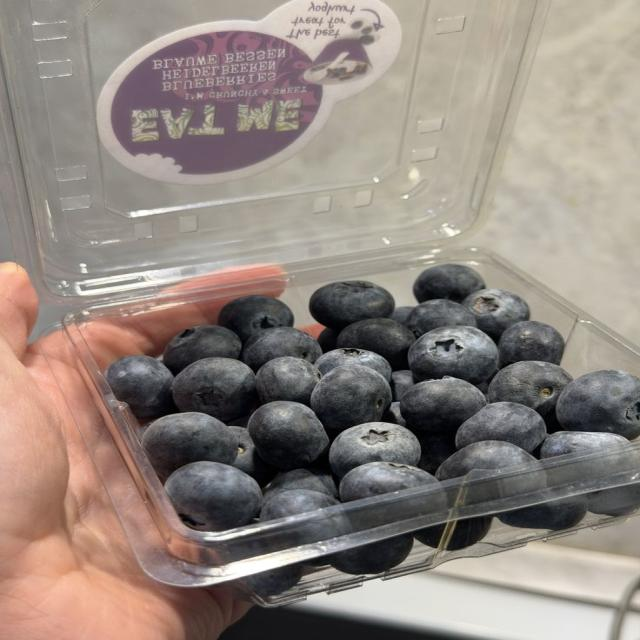blueberry: (165, 462, 261, 531), (142, 413, 237, 478), (488, 361, 572, 430), (556, 370, 639, 439), (248, 401, 329, 469), (174, 358, 257, 423), (312, 365, 391, 433), (409, 326, 498, 384), (330, 423, 420, 477), (400, 378, 486, 433), (540, 432, 637, 479), (456, 402, 546, 452), (106, 356, 175, 420), (309, 281, 394, 330), (436, 441, 537, 480), (338, 318, 415, 369), (340, 462, 438, 502), (163, 326, 241, 375), (241, 327, 321, 371), (219, 295, 293, 342), (462, 289, 530, 340), (331, 535, 413, 574), (256, 357, 321, 405), (228, 427, 279, 486), (499, 496, 587, 530), (499, 321, 564, 367), (414, 264, 485, 302), (260, 489, 339, 522), (414, 517, 493, 550), (407, 299, 476, 336), (315, 348, 392, 381), (260, 489, 339, 521), (540, 431, 626, 458), (265, 468, 338, 497), (243, 564, 303, 598), (588, 483, 639, 516), (418, 433, 457, 474), (390, 370, 416, 401), (382, 402, 406, 427), (317, 328, 339, 353), (389, 306, 413, 326)
